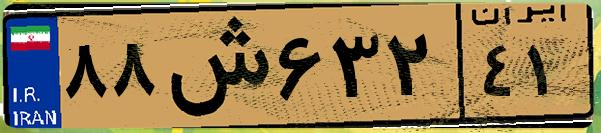1: (525, 38, 570, 115)
2: (385, 28, 445, 110)
3: (330, 28, 385, 110)
4: (475, 38, 525, 113)
6: (270, 28, 330, 110)
8: (57, 26, 110, 100), (110, 28, 158, 98)
ش: (158, 12, 270, 120)
